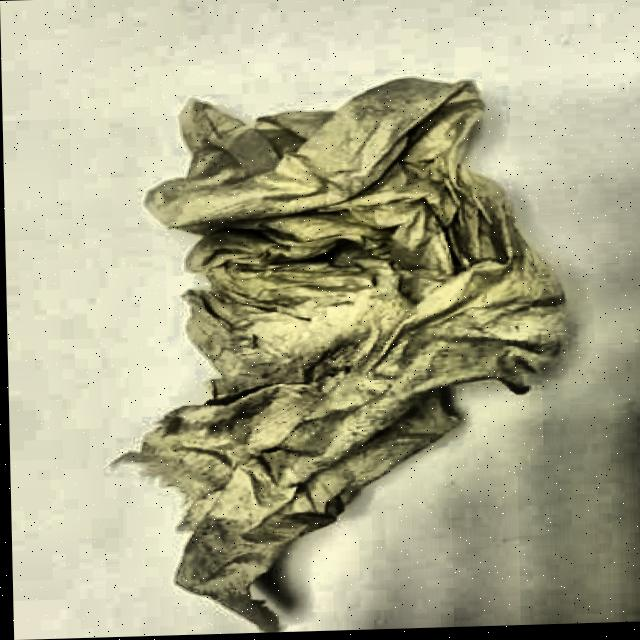paper: (69, 60, 584, 638)
